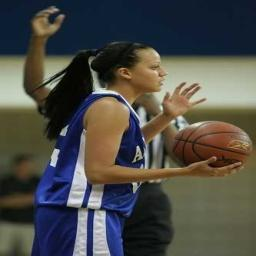ball: (171, 116, 253, 175)
human: (26, 37, 246, 256)
